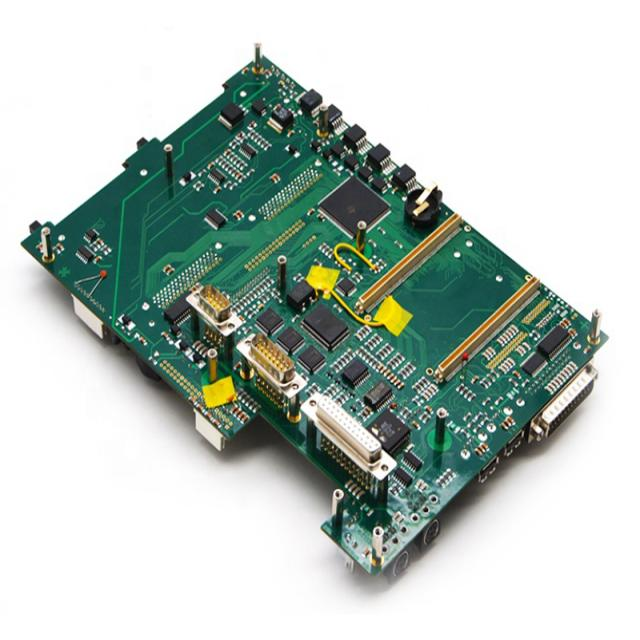pcb: (20, 41, 609, 584)
